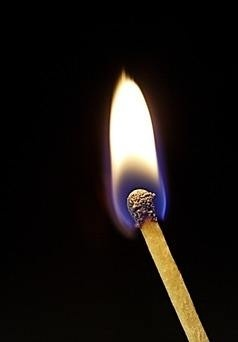fire: (105, 65, 163, 228)
